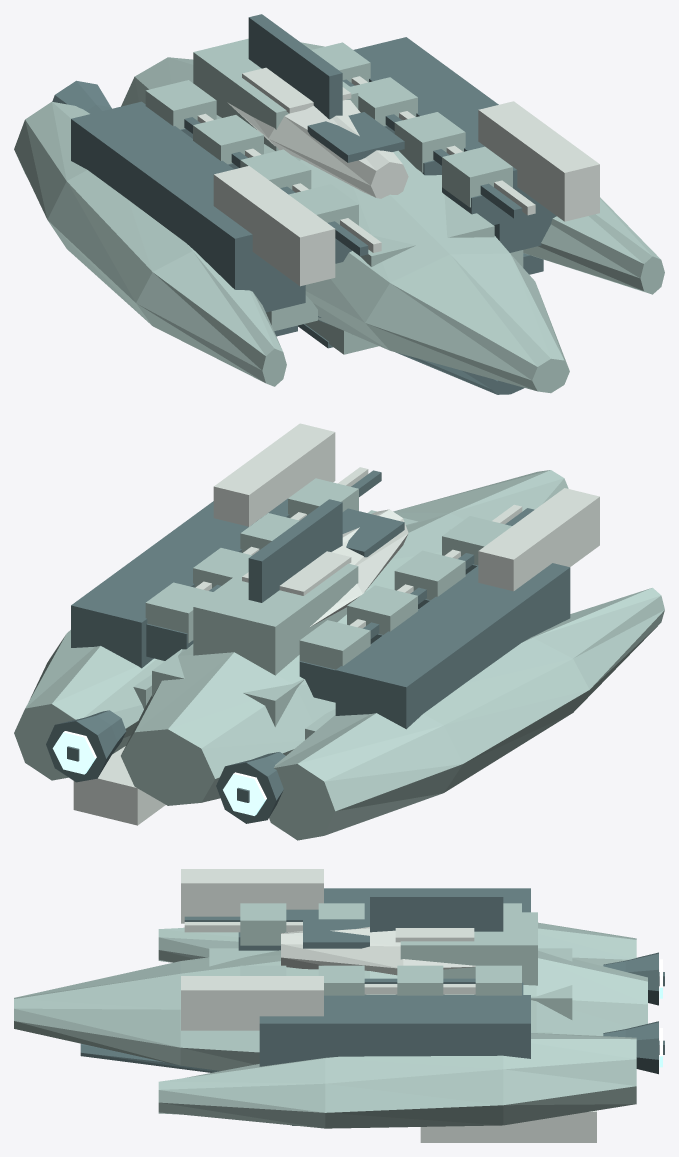
3 views of the same model, one above another, from view 1: azimuth 30°, elevation 25°; view 2: azimuth 150°, elevation 25°; view 3: azimuth 270°, elevation 25° (orthographic). The views are drawn at different scales.
Size of the model in its own units: 17.66 by 8.9 by 26.53.
